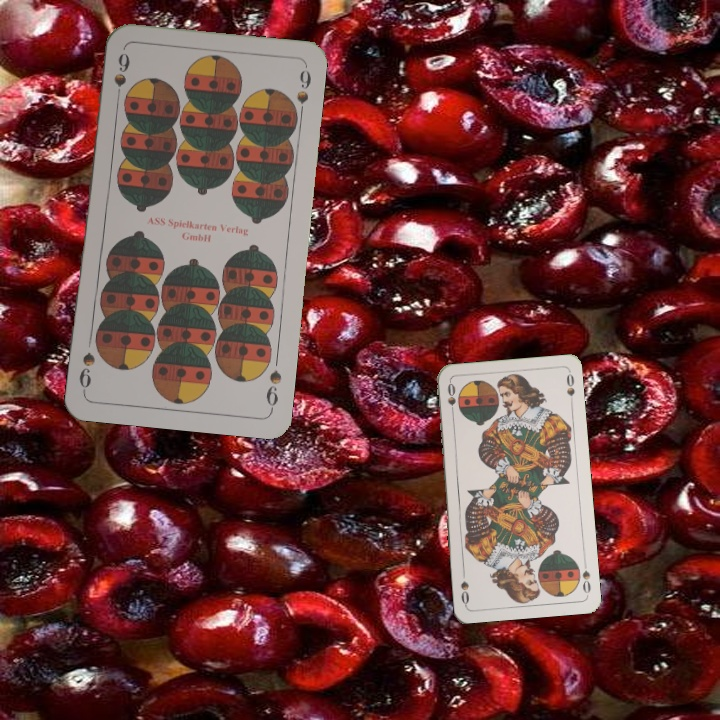S9: (110, 48, 132, 106), (262, 366, 284, 413)
SO: (443, 379, 458, 419), (578, 557, 593, 596)
